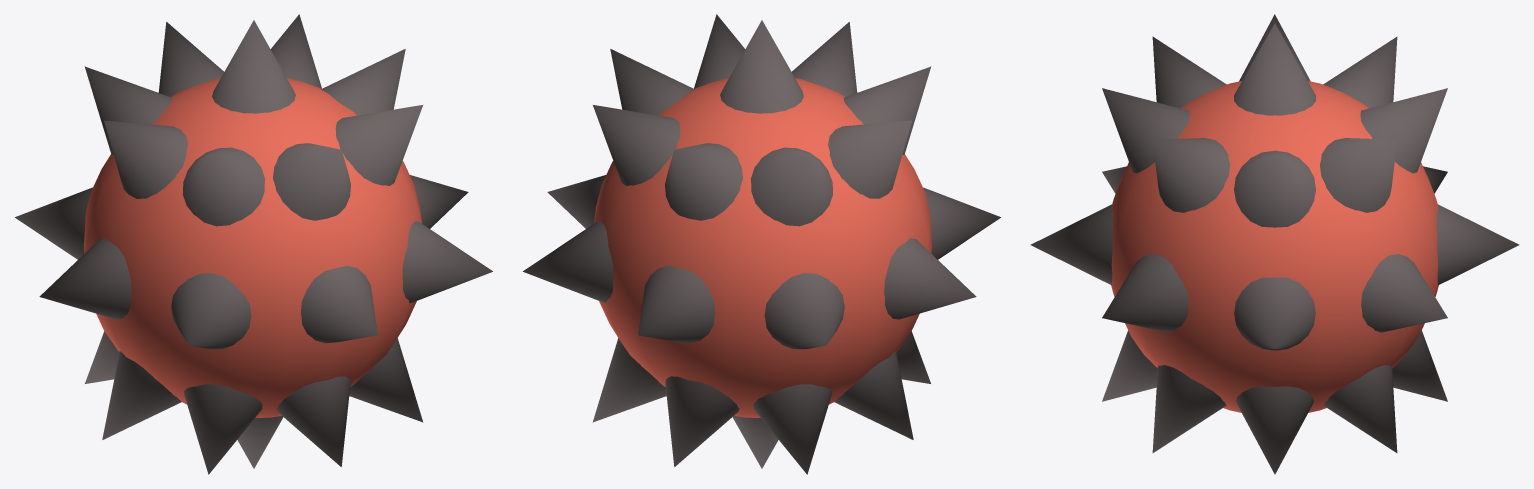
File: ammo_hot_spike_austin.fbx
3 views of the same model, side by side, from view 1: azimuth 30°, elevation 25°; view 2: azimuth 150°, elevation 25°; view 3: azimuth 270°, elevation 25° (orthographic).
Visible parts, largest first — view 1: hot_spike; view 2: hot_spike; view 3: hot_spike.
Boxes of the visible parts, x1,y1,x2,y2 form: hot_spike: [15, 14, 492, 474]; hot_spike: [523, 14, 1000, 474]; hot_spike: [1030, 14, 1519, 474].
Size of the model in its own units: 8.47 by 8.47 by 8.47.
